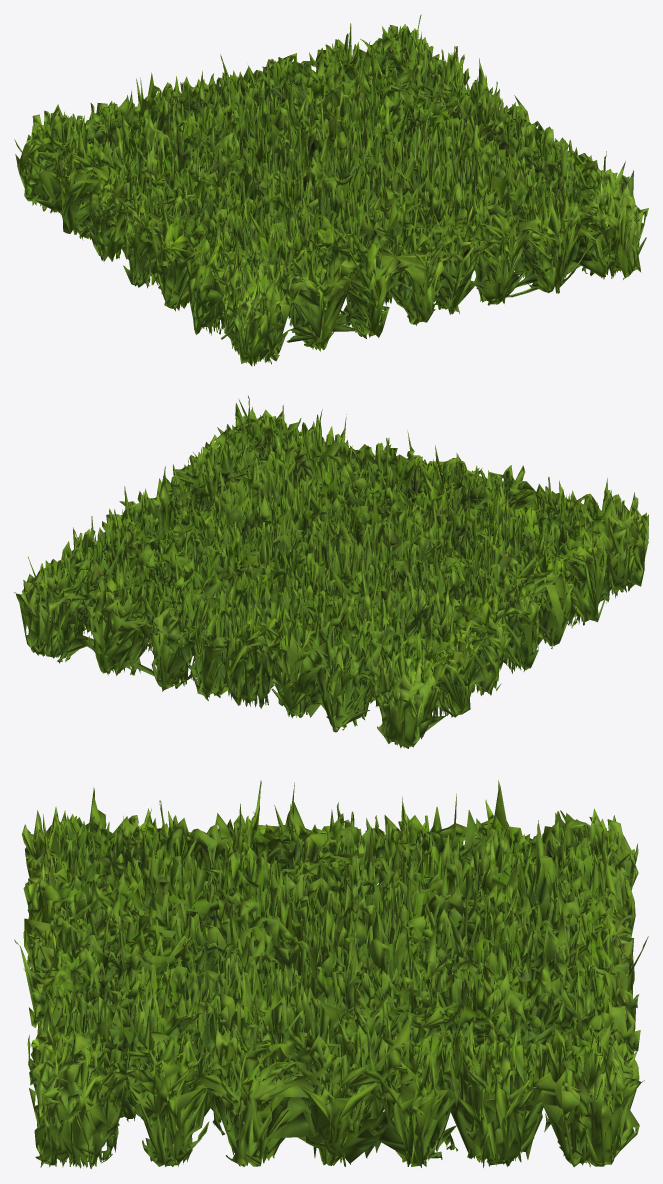
File: Meshy_AI_Verdant_Symmetry_1115233338_texture.glb
The picture shows the model from 3 angles, top to bottom: view 1: azimuth 30°, elevation 25°; view 2: azimuth 150°, elevation 25°; view 3: azimuth 270°, elevation 25°; orthographic projection. The views are drawn at different scales.
Bounding box in the file's own units: 1.92 × 0.5651 × 1.95.
Materials: 1 (1 with a texture image).
